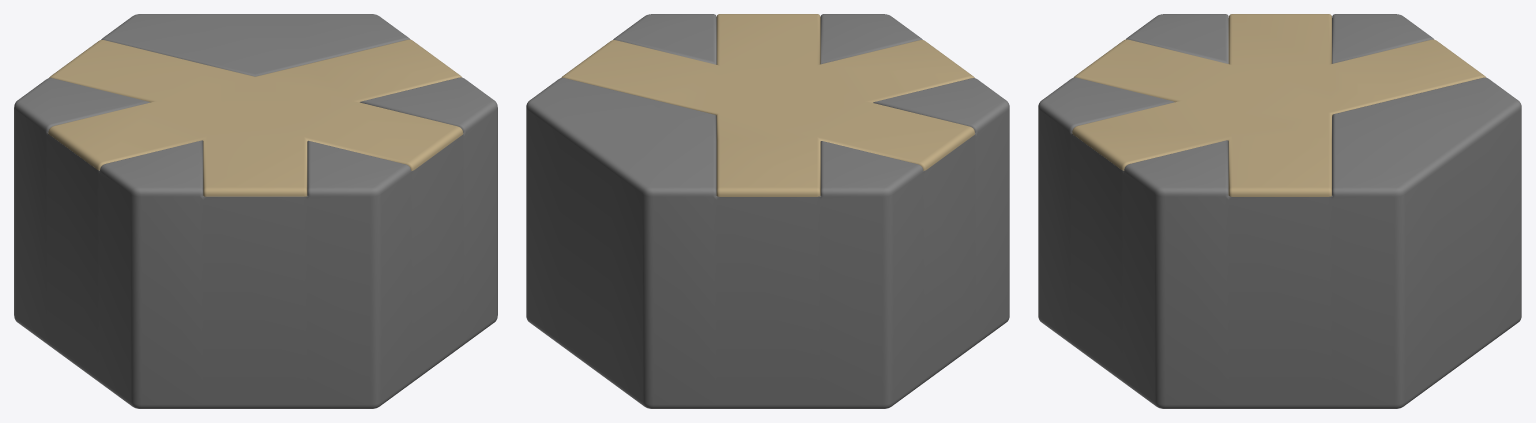
The model's file is Road10.fbx.
3 renders of one model, left to right at view 1: azimuth 30°, elevation 25°; view 2: azimuth 150°, elevation 25°; view 3: azimuth 270°, elevation 25°, orthographic.
Parts seen in each view (by area): view 1: Cylinder038; view 2: Cylinder038; view 3: Cylinder038.
Part boxes in pixels (x1,y1,x2,y2): Cylinder038: [14, 14, 497, 408]; Cylinder038: [526, 14, 1009, 408]; Cylinder038: [1038, 14, 1521, 408].
Size of the model in its own units: 173 by 100 by 199.
